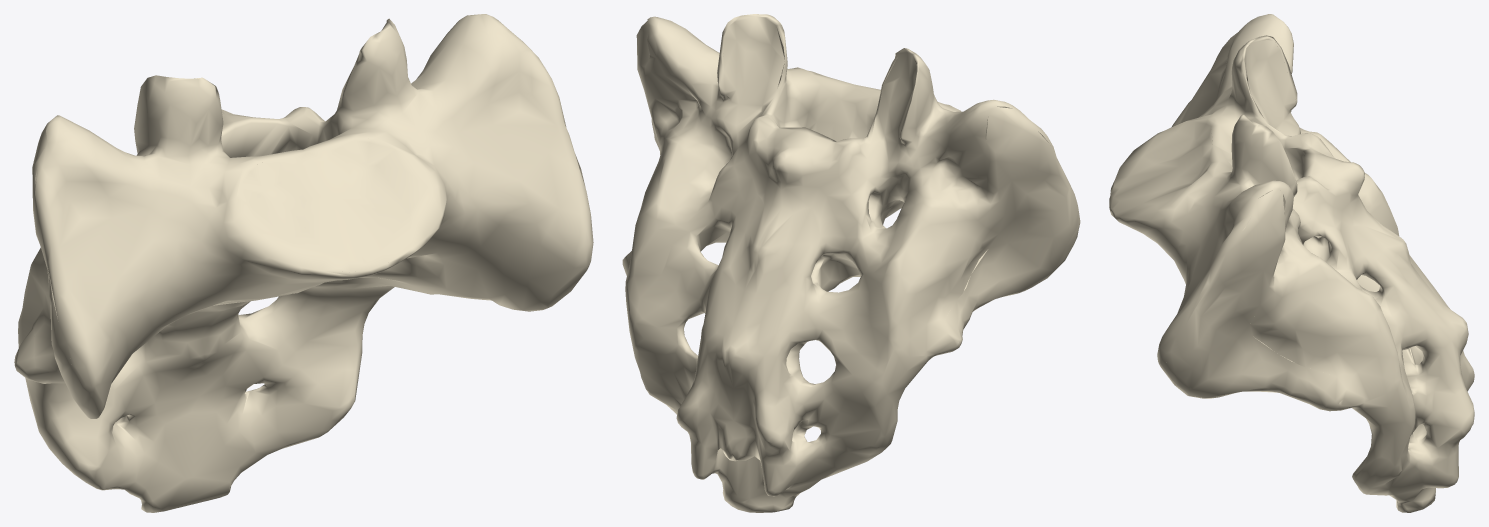
Rendered from esqueleto-sacrum.glb.
3 views of the same model, side by side, from view 1: azimuth 30°, elevation 25°; view 2: azimuth 150°, elevation 25°; view 3: azimuth 270°, elevation 25° (orthographic). The views are drawn at different scales.
Parts seen in each view (by area): view 1: Sacrum; view 2: Sacrum; view 3: Sacrum.
Part boxes in pixels (left/top/right/bottom): Sacrum: left=14, top=14, right=593, bottom=512; Sacrum: left=622, top=14, right=1080, bottom=512; Sacrum: left=1109, top=14, right=1474, bottom=512.
Size of the model in its own units: 0.1229 by 0.1151 by 0.0914.
